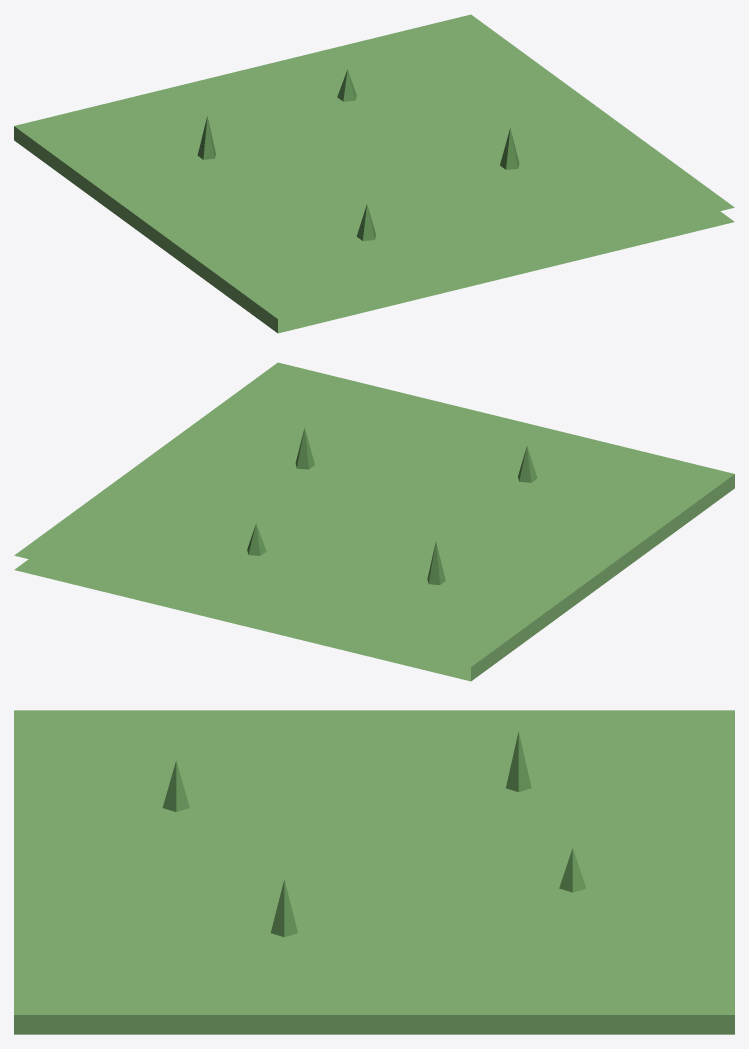
Rendered from grassPatch.glb.
The picture shows the model from 3 angles, top to bottom: view 1: azimuth 30°, elevation 25°; view 2: azimuth 150°, elevation 25°; view 3: azimuth 270°, elevation 25°; orthographic projection. The views are drawn at different scales.
Parts seen in each view (by area): view 1: grassPatch; view 2: grassPatch; view 3: grassPatch.
Boxes of the visible parts, x1,y1,x2,y2 form: grassPatch: (14, 14, 734, 333); grassPatch: (14, 362, 734, 681); grassPatch: (14, 710, 734, 1034).
Bounding box in the file's own units: 2 × 0.23 × 2.
